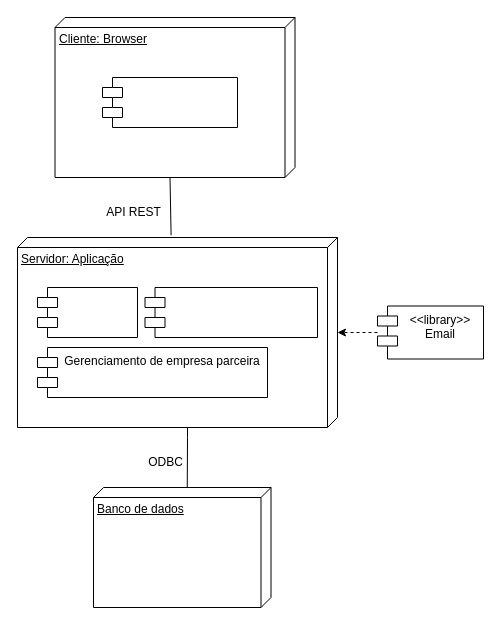
Some shapes in this 501 by 625 pixel diagram are drawn without their labels. Here are the shapes that lost their labels. From the top down, the box of each, then its label:
(102, 76, 238, 128): Interface gráfica
(36, 286, 138, 338): Usuarios
(144, 286, 318, 338): Gerenciamento de carteira
